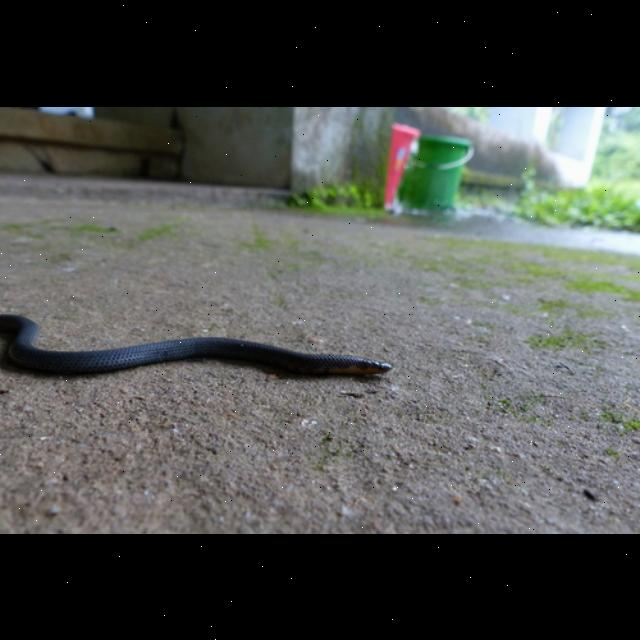snake: (0, 315, 406, 389)
